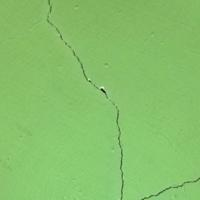crack: (42, 0, 134, 199)
